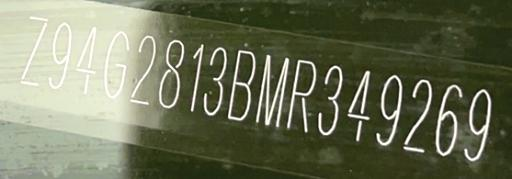letter: (254, 54, 290, 129), (285, 56, 317, 133), (18, 12, 50, 89), (226, 46, 258, 123), (401, 78, 433, 153), (434, 78, 464, 157), (374, 71, 404, 146), (463, 87, 493, 162), (316, 62, 344, 139), (128, 33, 158, 104), (156, 37, 186, 108), (346, 66, 372, 145), (102, 29, 130, 100), (74, 23, 100, 96), (46, 20, 72, 91), (202, 46, 228, 117), (188, 43, 204, 112)
